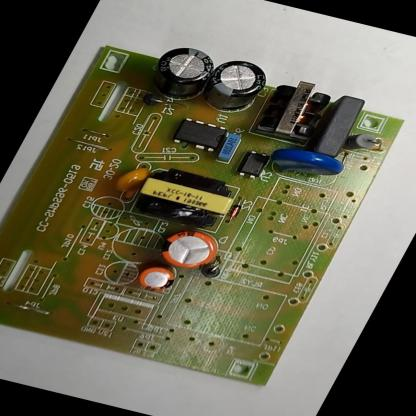Cap1: (143, 222, 237, 278)
Cap2: (122, 255, 193, 301)
Cap3: (192, 52, 278, 123)
Cap4: (136, 37, 229, 112)
MOSFET: (162, 113, 238, 156)
Mov: (256, 135, 357, 194)
Resistor: (337, 126, 393, 159)
Transformer: (118, 158, 250, 237), (245, 72, 346, 150)
